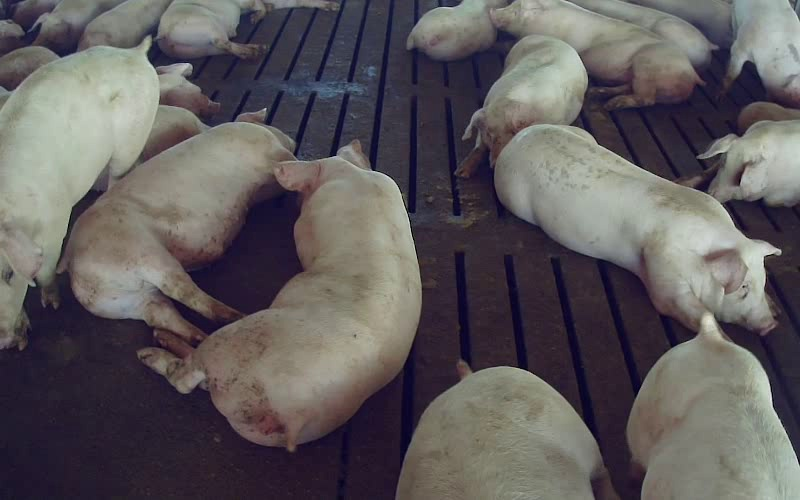pig: (138, 141, 420, 450), (495, 124, 779, 334), (60, 109, 294, 342), (627, 314, 799, 499), (396, 360, 617, 499), (490, 0, 702, 109), (455, 35, 587, 177), (677, 120, 799, 206), (570, 0, 717, 66), (723, 0, 799, 107), (157, 0, 266, 58)
